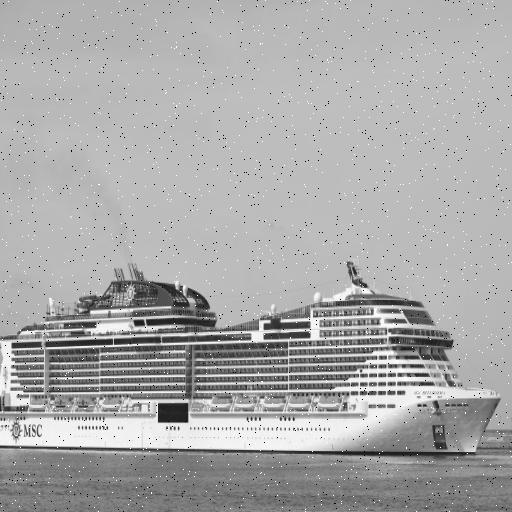cruises: (1, 252, 504, 463)
